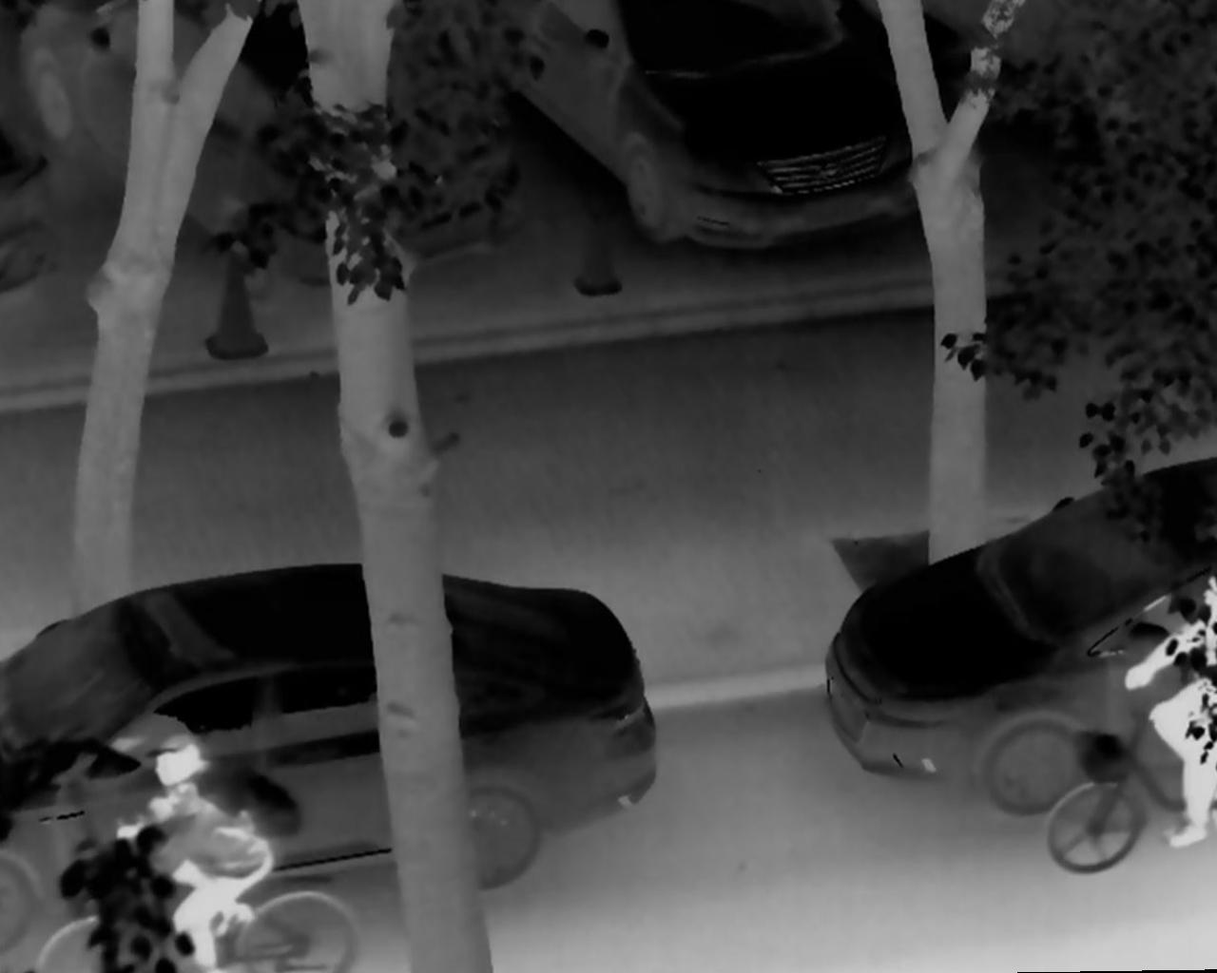person: (116, 734, 280, 973), (1118, 557, 1217, 858)
